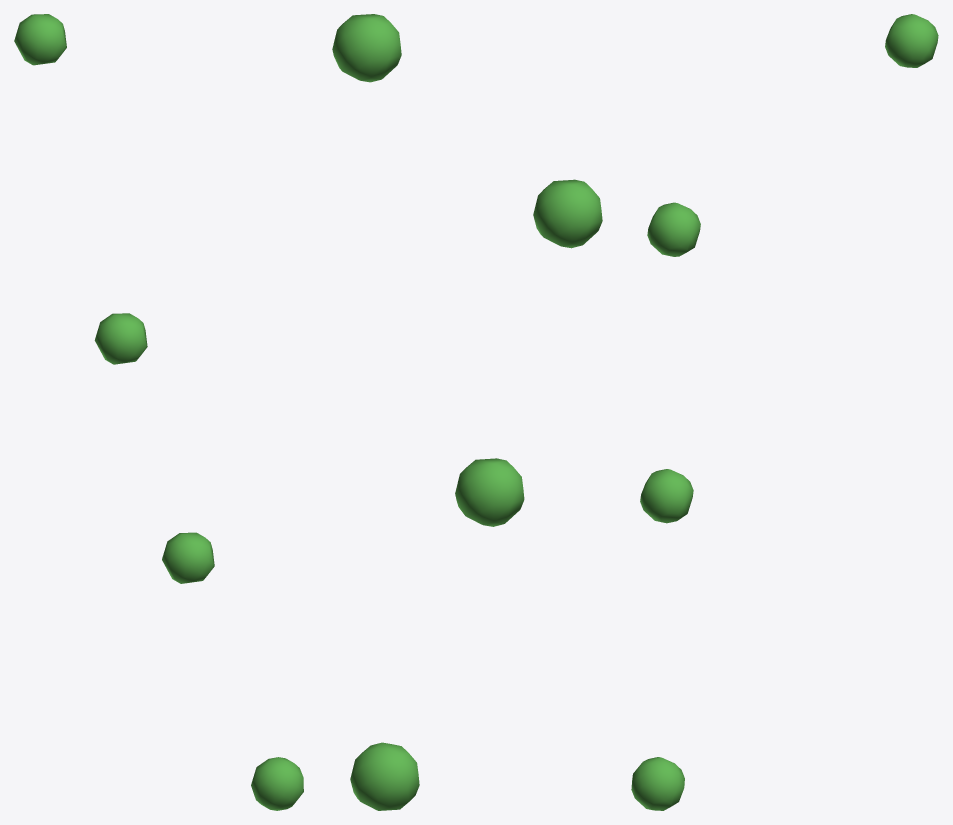
The model's file is linfatico-prepericardial-nodes.glb.
The picture shows the model from 3 angles, left to right: view 1: azimuth 30°, elevation 25°; view 2: azimuth 150°, elevation 25°; view 3: azimuth 270°, elevation 25°; orthographic projection. The views are drawn at different scales.
Parts seen in each view (by area): view 1: Prepericardial nodes; view 2: Prepericardial nodes; view 3: Prepericardial nodes.
Part boxes in pixels (left/top/right/bottom): Prepericardial nodes: left=14, top=14, right=303, bottom=810; Prepericardial nodes: left=332, top=14, right=602, bottom=810; Prepericardial nodes: left=631, top=14, right=938, bottom=810.
Size of the model in its own units: 0.0107 by 0.0383 by 0.0145.
